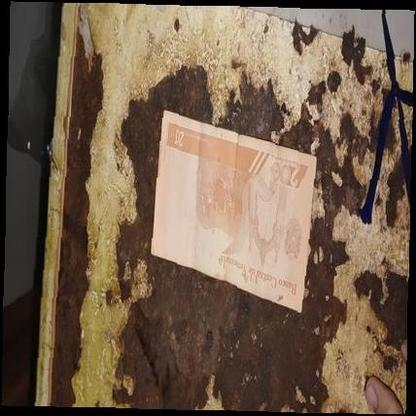vef_back: (150, 110, 317, 312)
